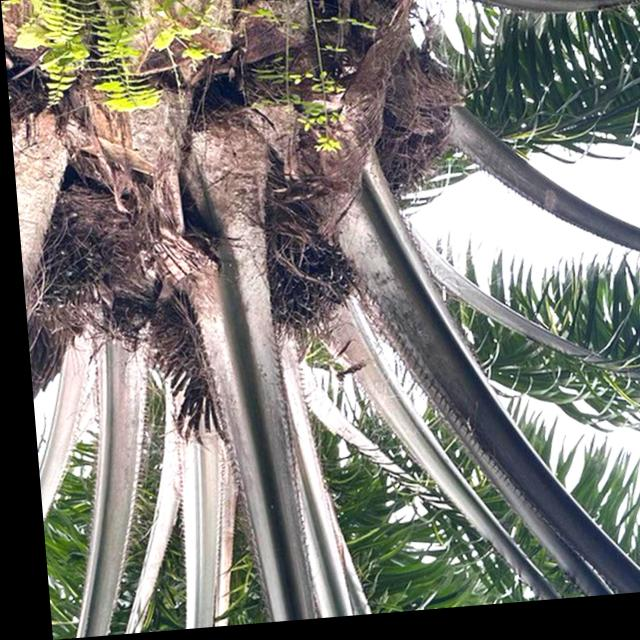unripe: (244, 208, 369, 356)
